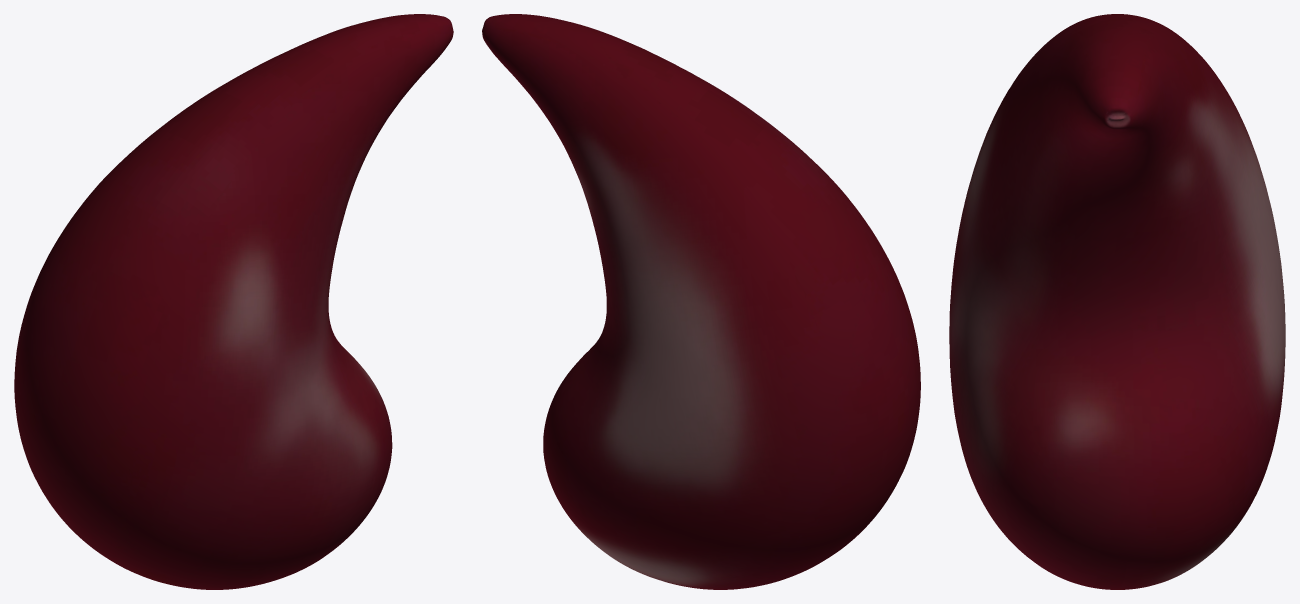
File: horse_spleen.glb
3 views of the same model, side by side, from view 1: azimuth 30°, elevation 25°; view 2: azimuth 150°, elevation 25°; view 3: azimuth 270°, elevation 25° (orthographic). The views are drawn at different scales.
Parts seen in each view (by area): view 1: model; view 2: model; view 3: model.
Part boxes in pixels (<box>): model: <box>14,14,453,589</box>; model: <box>482,14,920,589</box>; model: <box>949,14,1285,589</box>.
Bounding box in the file's own units: 1.61 × 1.9 × 0.9746.
1 material, 1 textured.
